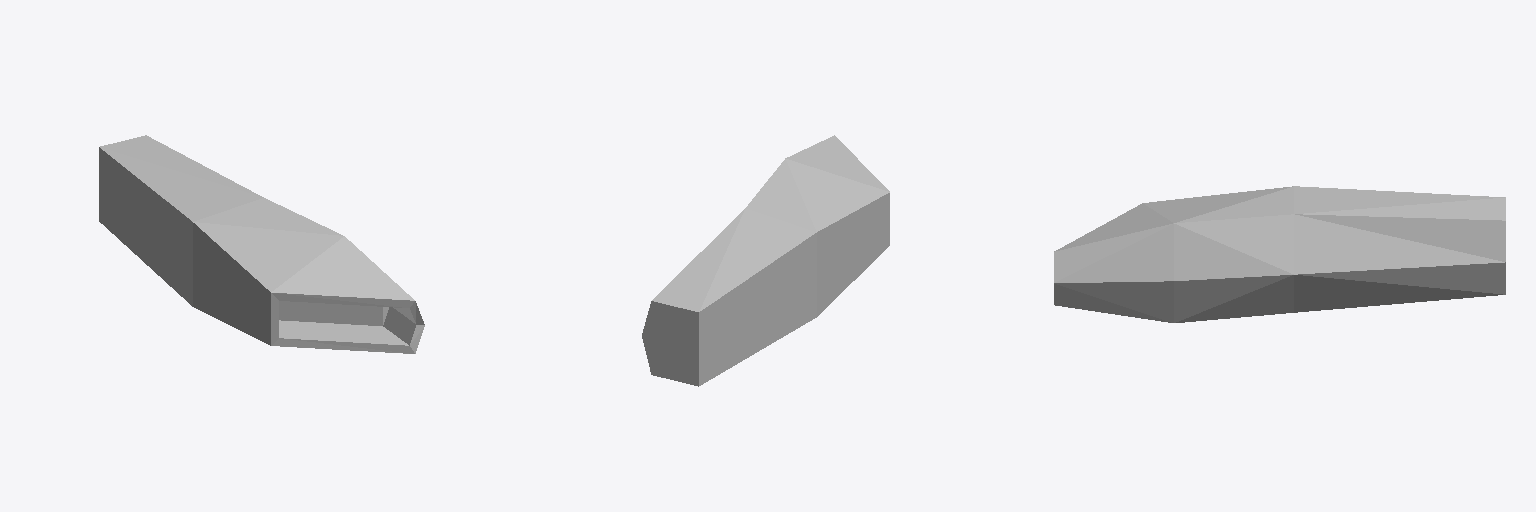
The model's file is lower_leg.obj.
3 views of the same model, side by side, from view 1: azimuth 30°, elevation 25°; view 2: azimuth 150°, elevation 25°; view 3: azimuth 270°, elevation 25° (orthographic).
Parts seen in each view (by area): view 1: cube2; view 2: cube2; view 3: cube2.
Boxes of the visible parts, box(x1,y1,x2,y2) form: cube2: box(99, 135, 424, 353); cube2: box(642, 135, 889, 386); cube2: box(1054, 186, 1505, 322).
Bounding box in the file's own units: 0.122 × 0.1042 × 0.427.